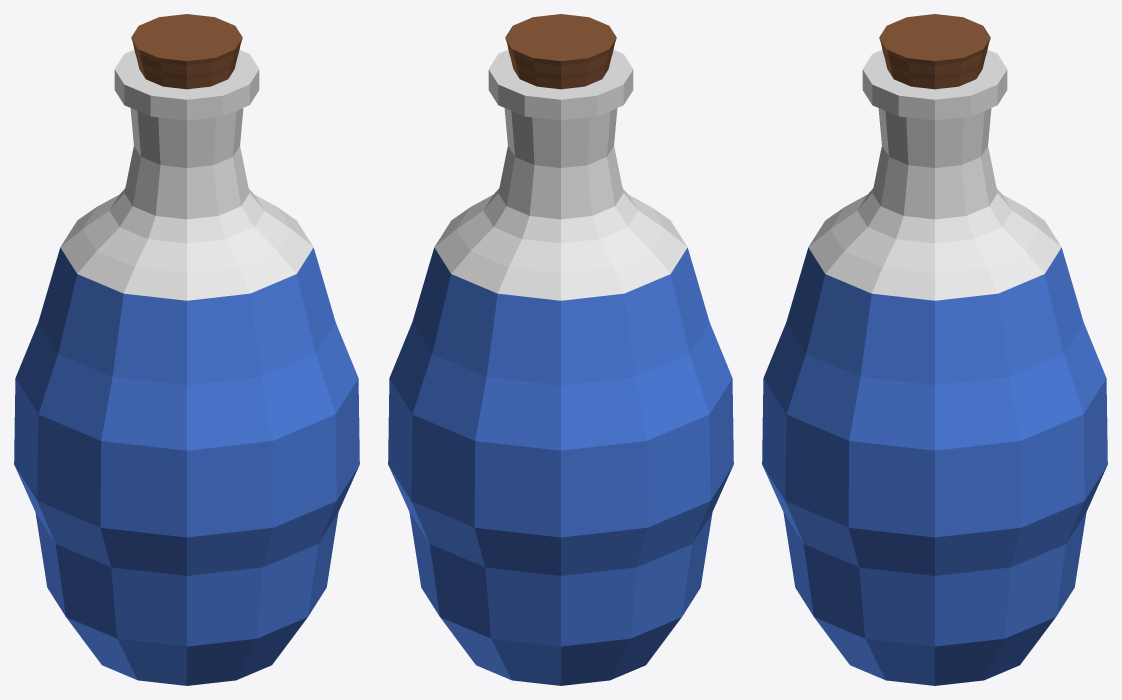
The model's file is great_potion_blue.fbx.
3 views of the same model, side by side, from view 1: azimuth 30°, elevation 25°; view 2: azimuth 150°, elevation 25°; view 3: azimuth 270°, elevation 25° (orthographic).
Parts seen in each view (by area): view 1: bluepotion3; view 2: bluepotion3; view 3: bluepotion3.
Part boxes in pixels (<box>): bluepotion3: <box>14,14,359,685</box>; bluepotion3: <box>388,14,733,685</box>; bluepotion3: <box>762,14,1107,685</box>.
Size of the model in its own units: 50.56 by 97.94 by 50.56.
